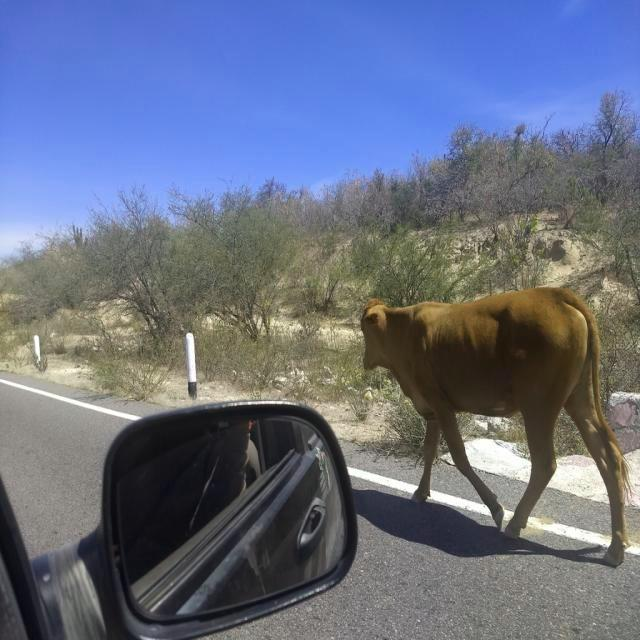cow: (361, 288, 628, 564)
